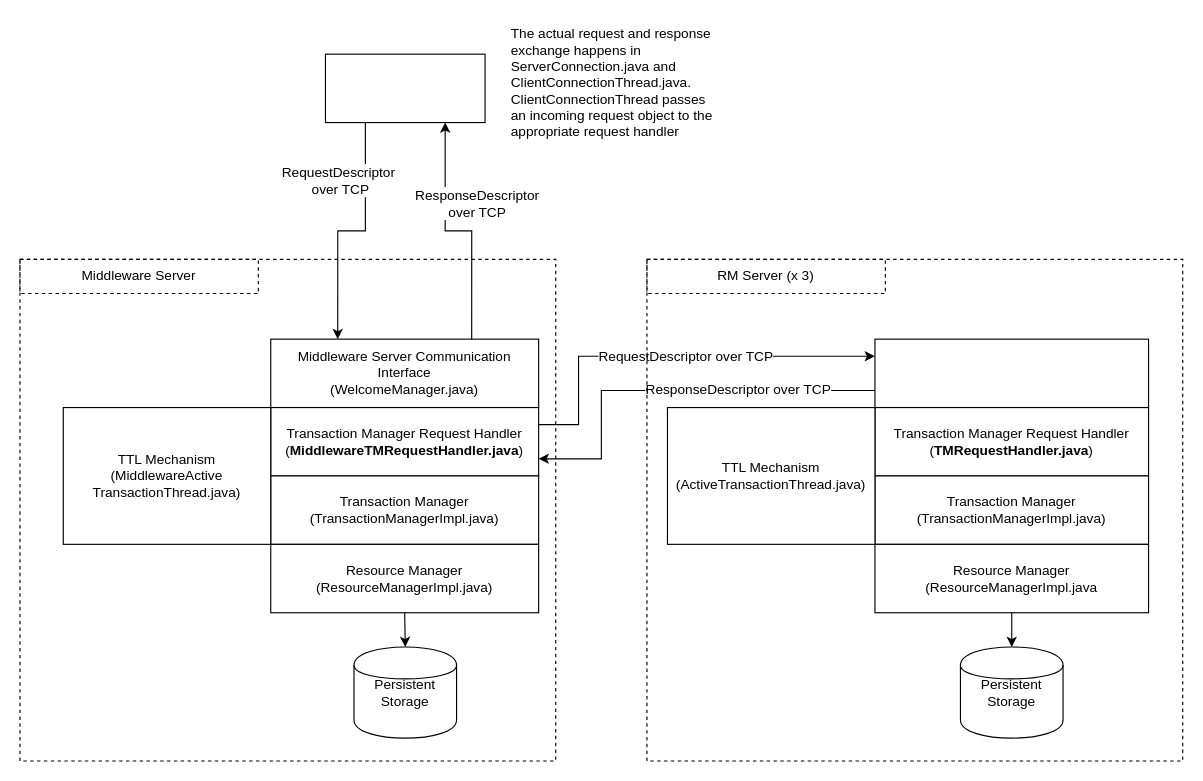
This 1203x781 diagram has some shape labels left out. Each missing label, with the box of its shape:
PerformanceTestClient: (324, 53, 485, 123)
RM Server Communication Interface (WelcomeManager.java): (874, 338, 1149, 408)
